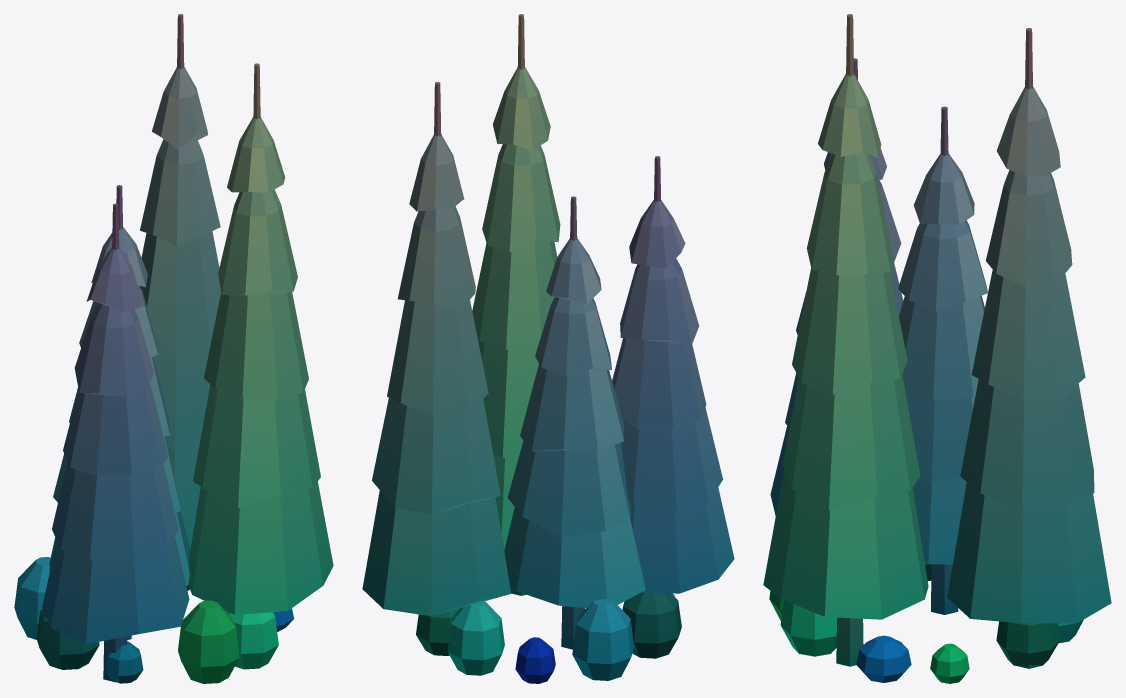
Rendered from spruce_01.glb.
3 views of the same model, side by side, from view 1: azimuth 30°, elevation 25°; view 2: azimuth 150°, elevation 25°; view 3: azimuth 270°, elevation 25° (orthographic). The views are drawn at different scales.
Parts seen in each view (by area): view 1: spruce_01.002; view 2: spruce_01.002; view 3: spruce_01.002.
Boxes of the visible parts, x1,y1,x2,y2 form: spruce_01.002: [14, 14, 333, 683]; spruce_01.002: [362, 14, 734, 683]; spruce_01.002: [763, 14, 1111, 683].
Size of the model in its own units: 0.936 by 1.92 by 0.94.
